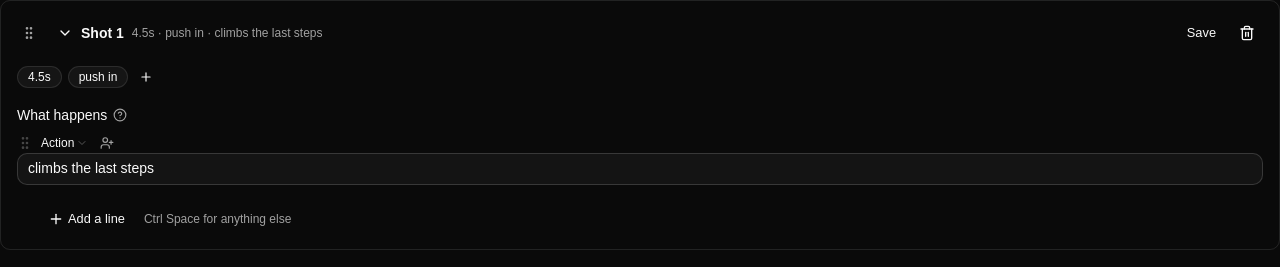
Scenario: ShotRow › offers the amplitude and the speed once the camera has a move to modify
Click the button named "Set more about shot 1".
click(146, 77)  # box [134,65,158,89]
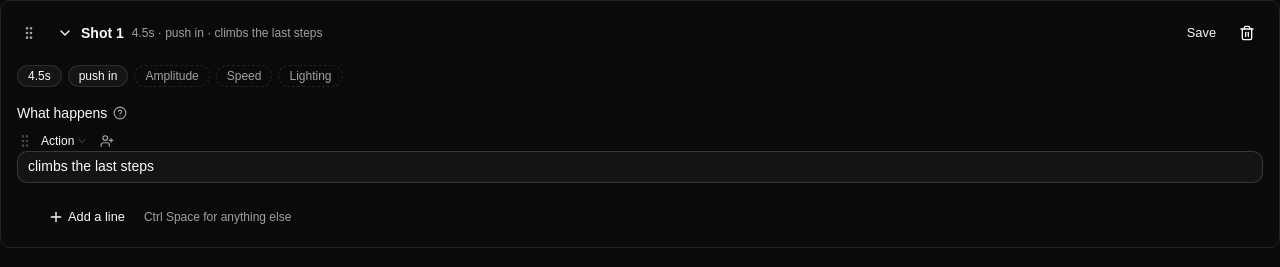
Expected: the button with aria-label "Speed of shot 11" is shown, [216,65,272,87]
Expected: the button with aria-label "Amplitude of shot 11" is shown, [134,65,210,87]
